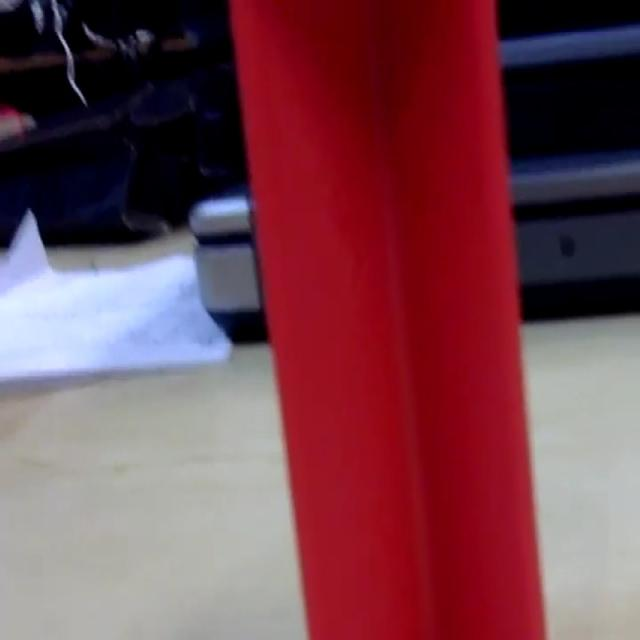red_block: (228, 0, 550, 636)
